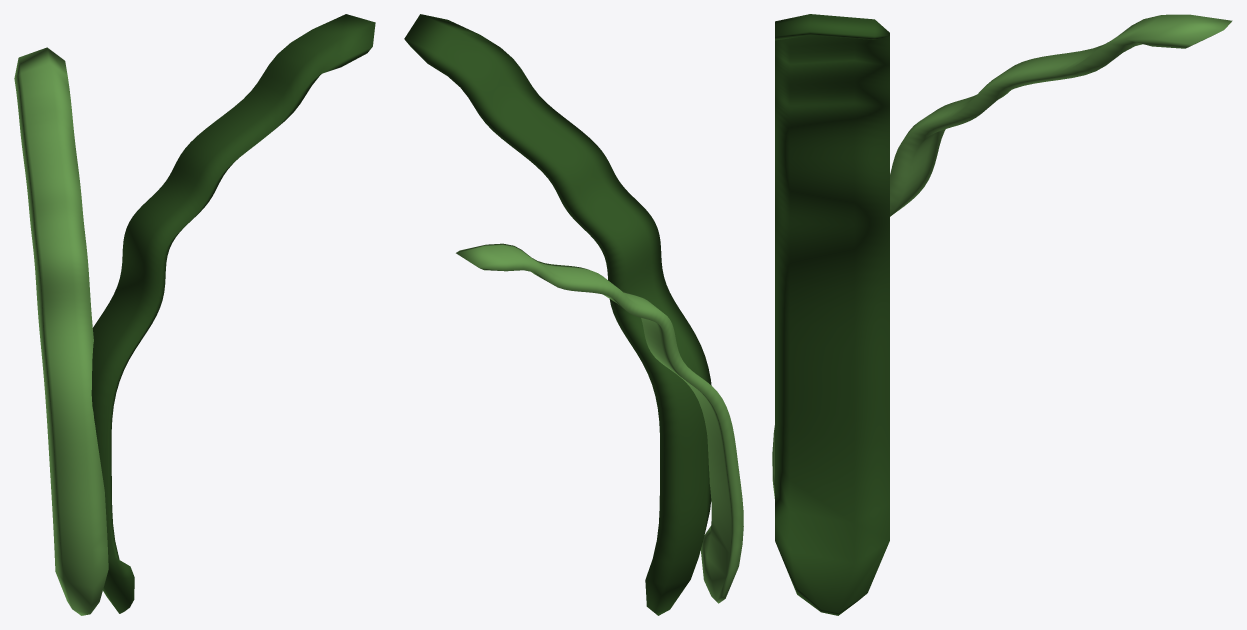
The model's file is seaweed.fbx.
3 views of the same model, side by side, from view 1: azimuth 30°, elevation 25°; view 2: azimuth 150°, elevation 25°; view 3: azimuth 270°, elevation 25° (orthographic). The views are drawn at different scales.
Visible parts, largest first — view 1: NurbsPath.001, NurbsPath; view 2: NurbsPath, NurbsPath.001; view 3: NurbsPath, NurbsPath.001.
Part boxes in pixels (x1,y1,x2,y2): NurbsPath.001: (14, 47, 108, 615); NurbsPath: (91, 14, 375, 613); NurbsPath: (404, 14, 711, 615); NurbsPath.001: (456, 243, 743, 603); NurbsPath: (775, 14, 889, 615); NurbsPath.001: (772, 14, 1232, 498).
Bounding box in the file's own units: 123 × 197 × 109.
